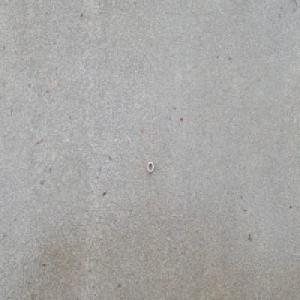Nut: (146, 160, 154, 173)
